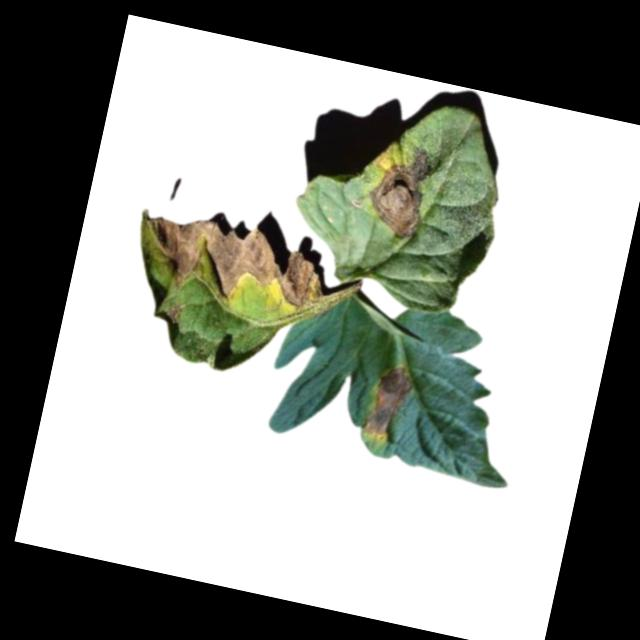Early_blight: (127, 205, 333, 324), (359, 138, 443, 245), (357, 360, 417, 448), (161, 301, 185, 326)
